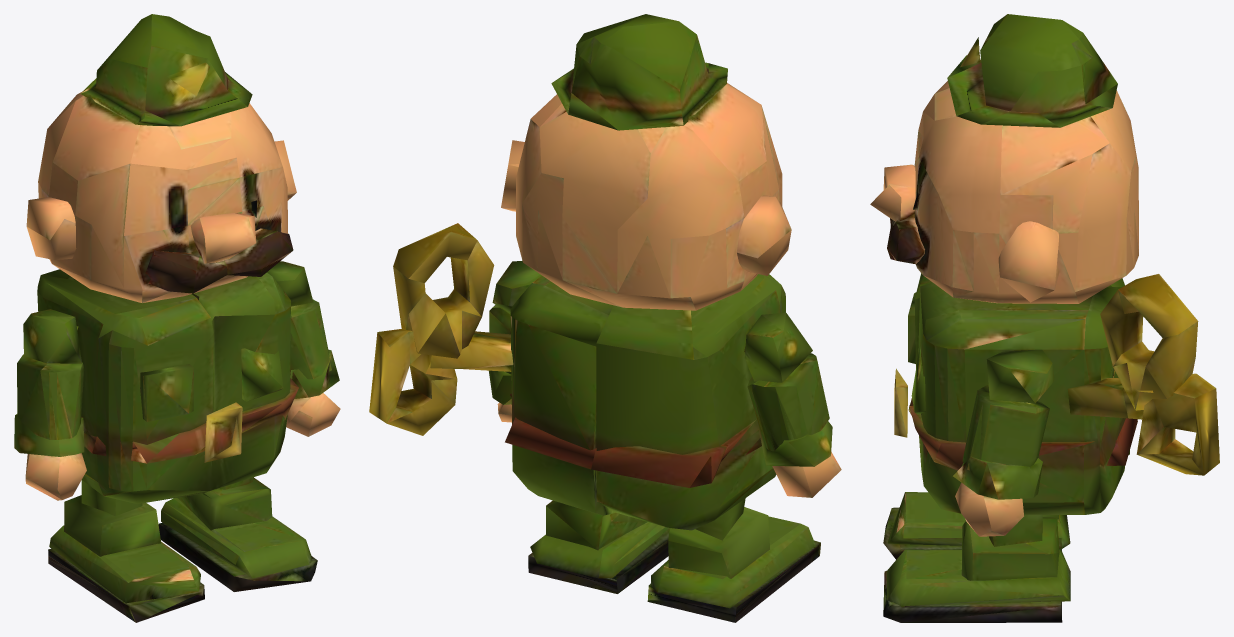
The model's file is stamp_windup.glb.
3 views of the same model, side by side, from view 1: azimuth 30°, elevation 25°; view 2: azimuth 150°, elevation 25°; view 3: azimuth 270°, elevation 25° (orthographic). The views are drawn at different scales.
Bounding box in the file's own units: 0.6582 × 0.9961 × 0.5664.
1 material, 1 textured.
